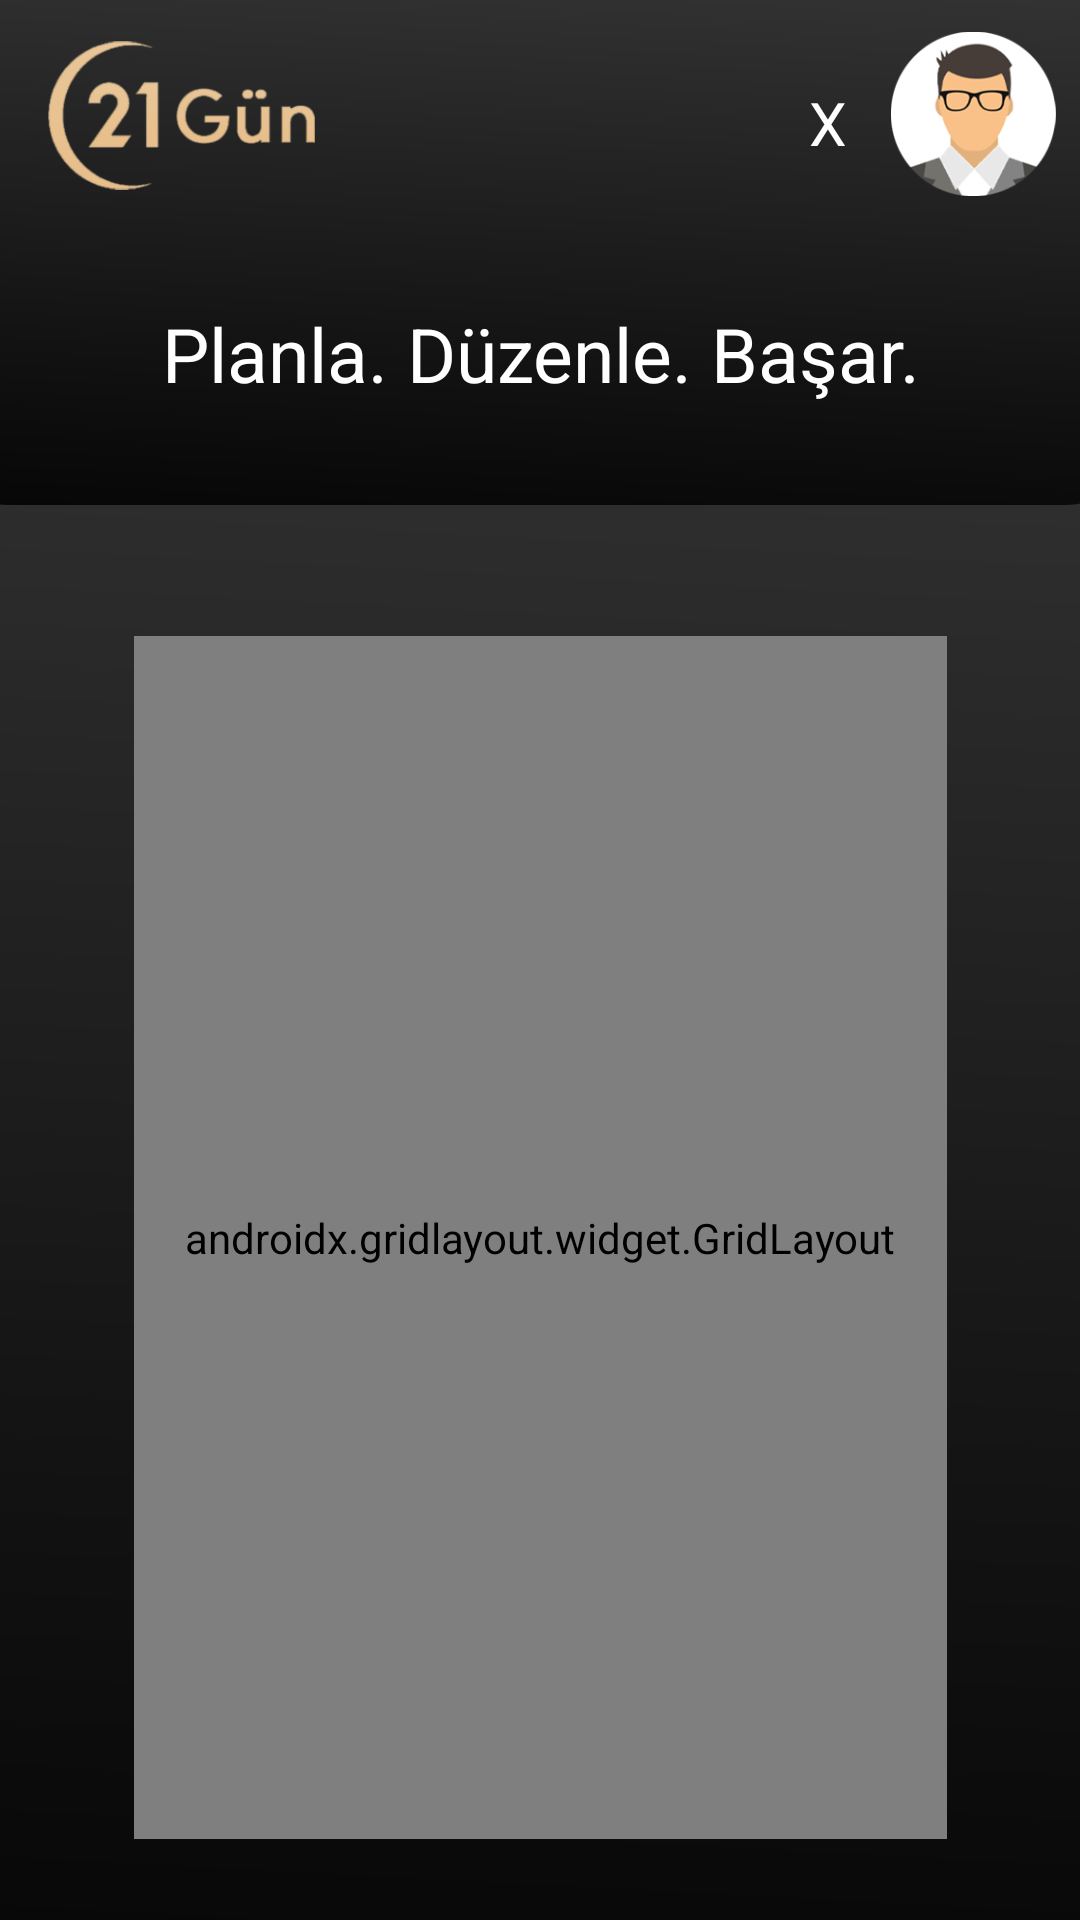

Icon click points for this 1080*1920 phone screenshot, format (x=x, y=y):
profile: (x=973, y=114)
